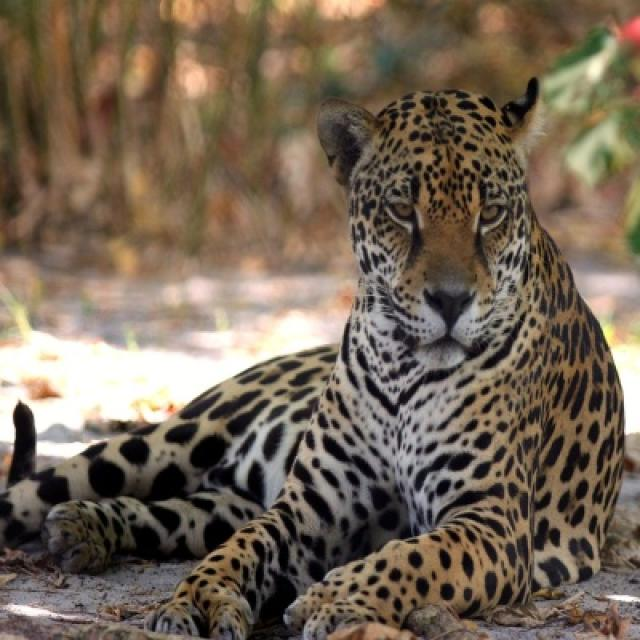Jaguar: (0, 80, 627, 638)
